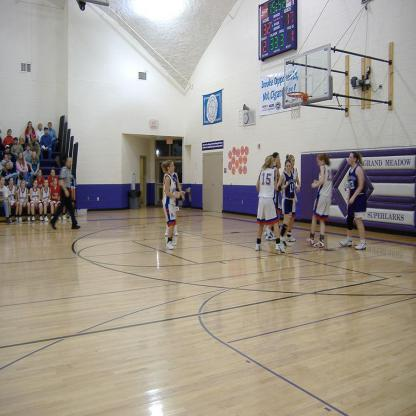face: (349, 154, 355, 165), (286, 164, 292, 174), (291, 157, 296, 168), (171, 163, 176, 173), (318, 158, 323, 167), (69, 159, 74, 168), (271, 158, 275, 169), (276, 156, 281, 164), (2, 178, 6, 185), (279, 161, 282, 169), (52, 170, 56, 176), (22, 181, 26, 187), (49, 124, 53, 129), (33, 137, 36, 143), (34, 153, 37, 159), (20, 154, 23, 160), (7, 163, 10, 169), (11, 179, 14, 185), (35, 181, 38, 187), (46, 181, 49, 187), (55, 180, 58, 186), (46, 129, 49, 134), (40, 125, 43, 130), (30, 123, 33, 128), (30, 131, 33, 136), (28, 146, 31, 151), (40, 171, 43, 176), (21, 137, 24, 142), (10, 131, 13, 136), (7, 148, 10, 153), (6, 156, 9, 161), (16, 140, 19, 144)
